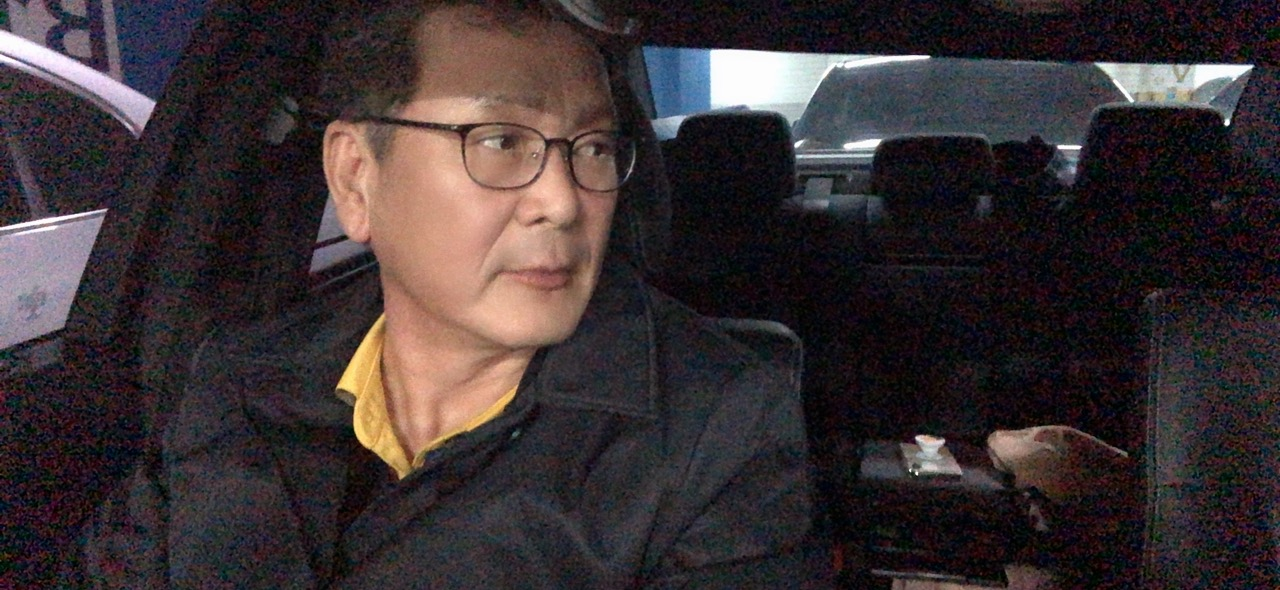right: (94, 5, 819, 590)
